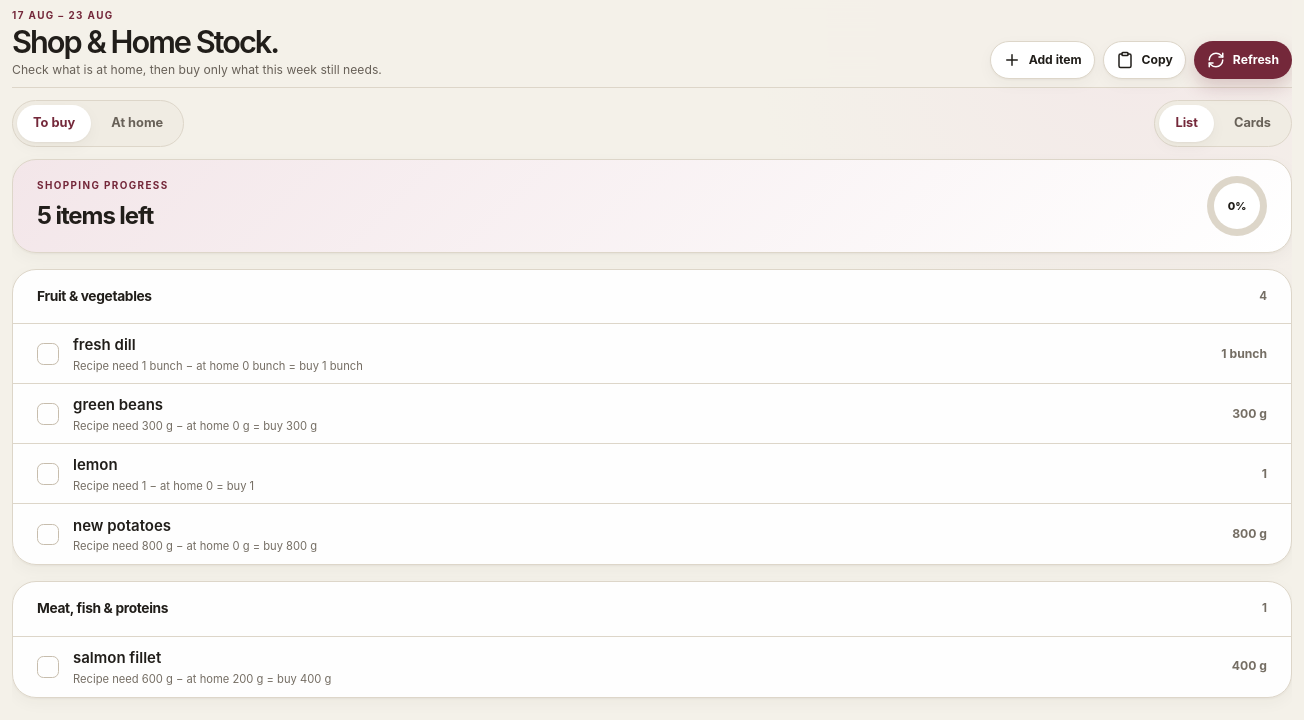
Test case: ShoppingPage Home Stock › filters Home Stock to frozen food and labels matching items
The image size is (1304, 720).
Click the button "At home" at (137, 123), box [95, 104, 179, 142]
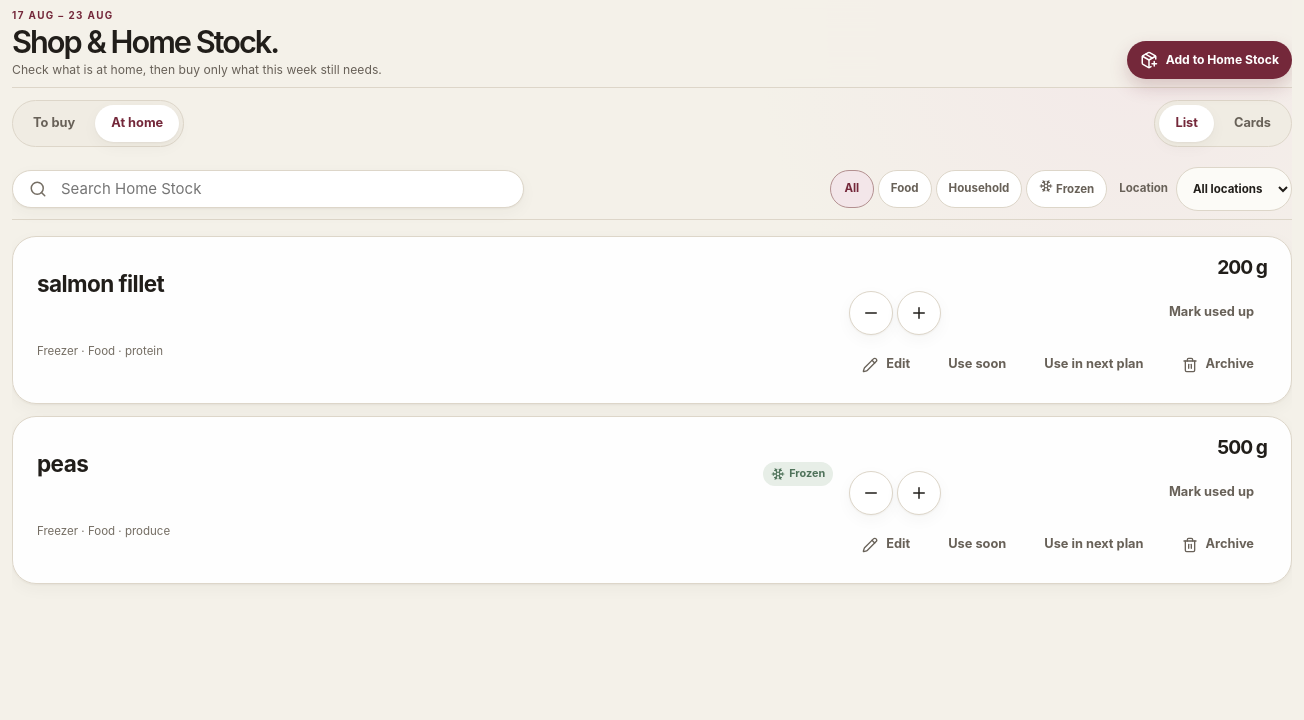
Click the button "Frozen" at (1067, 189), box [1026, 170, 1107, 208]
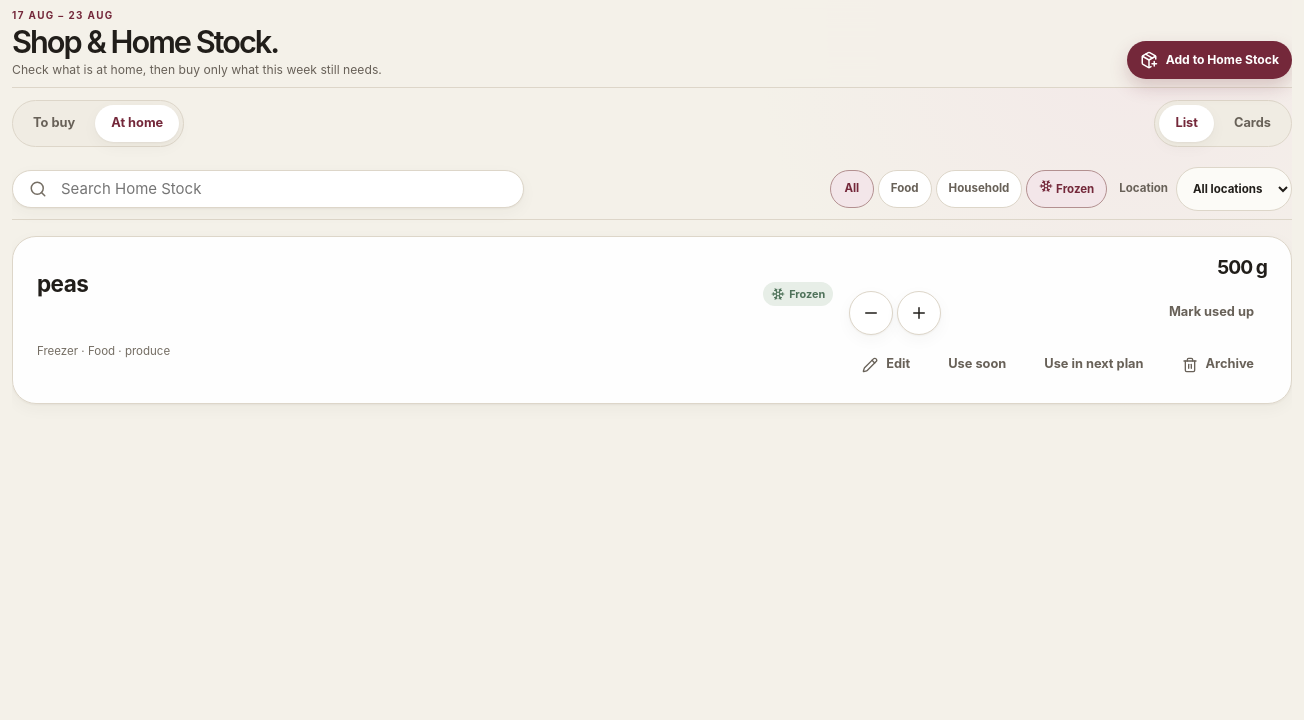
Check: the text "peas" is shown, box [37, 267, 88, 302]
Check: the text "Frozen" is shown, box [1026, 170, 1107, 208]
Check: the text "salmon fillet" is gone
